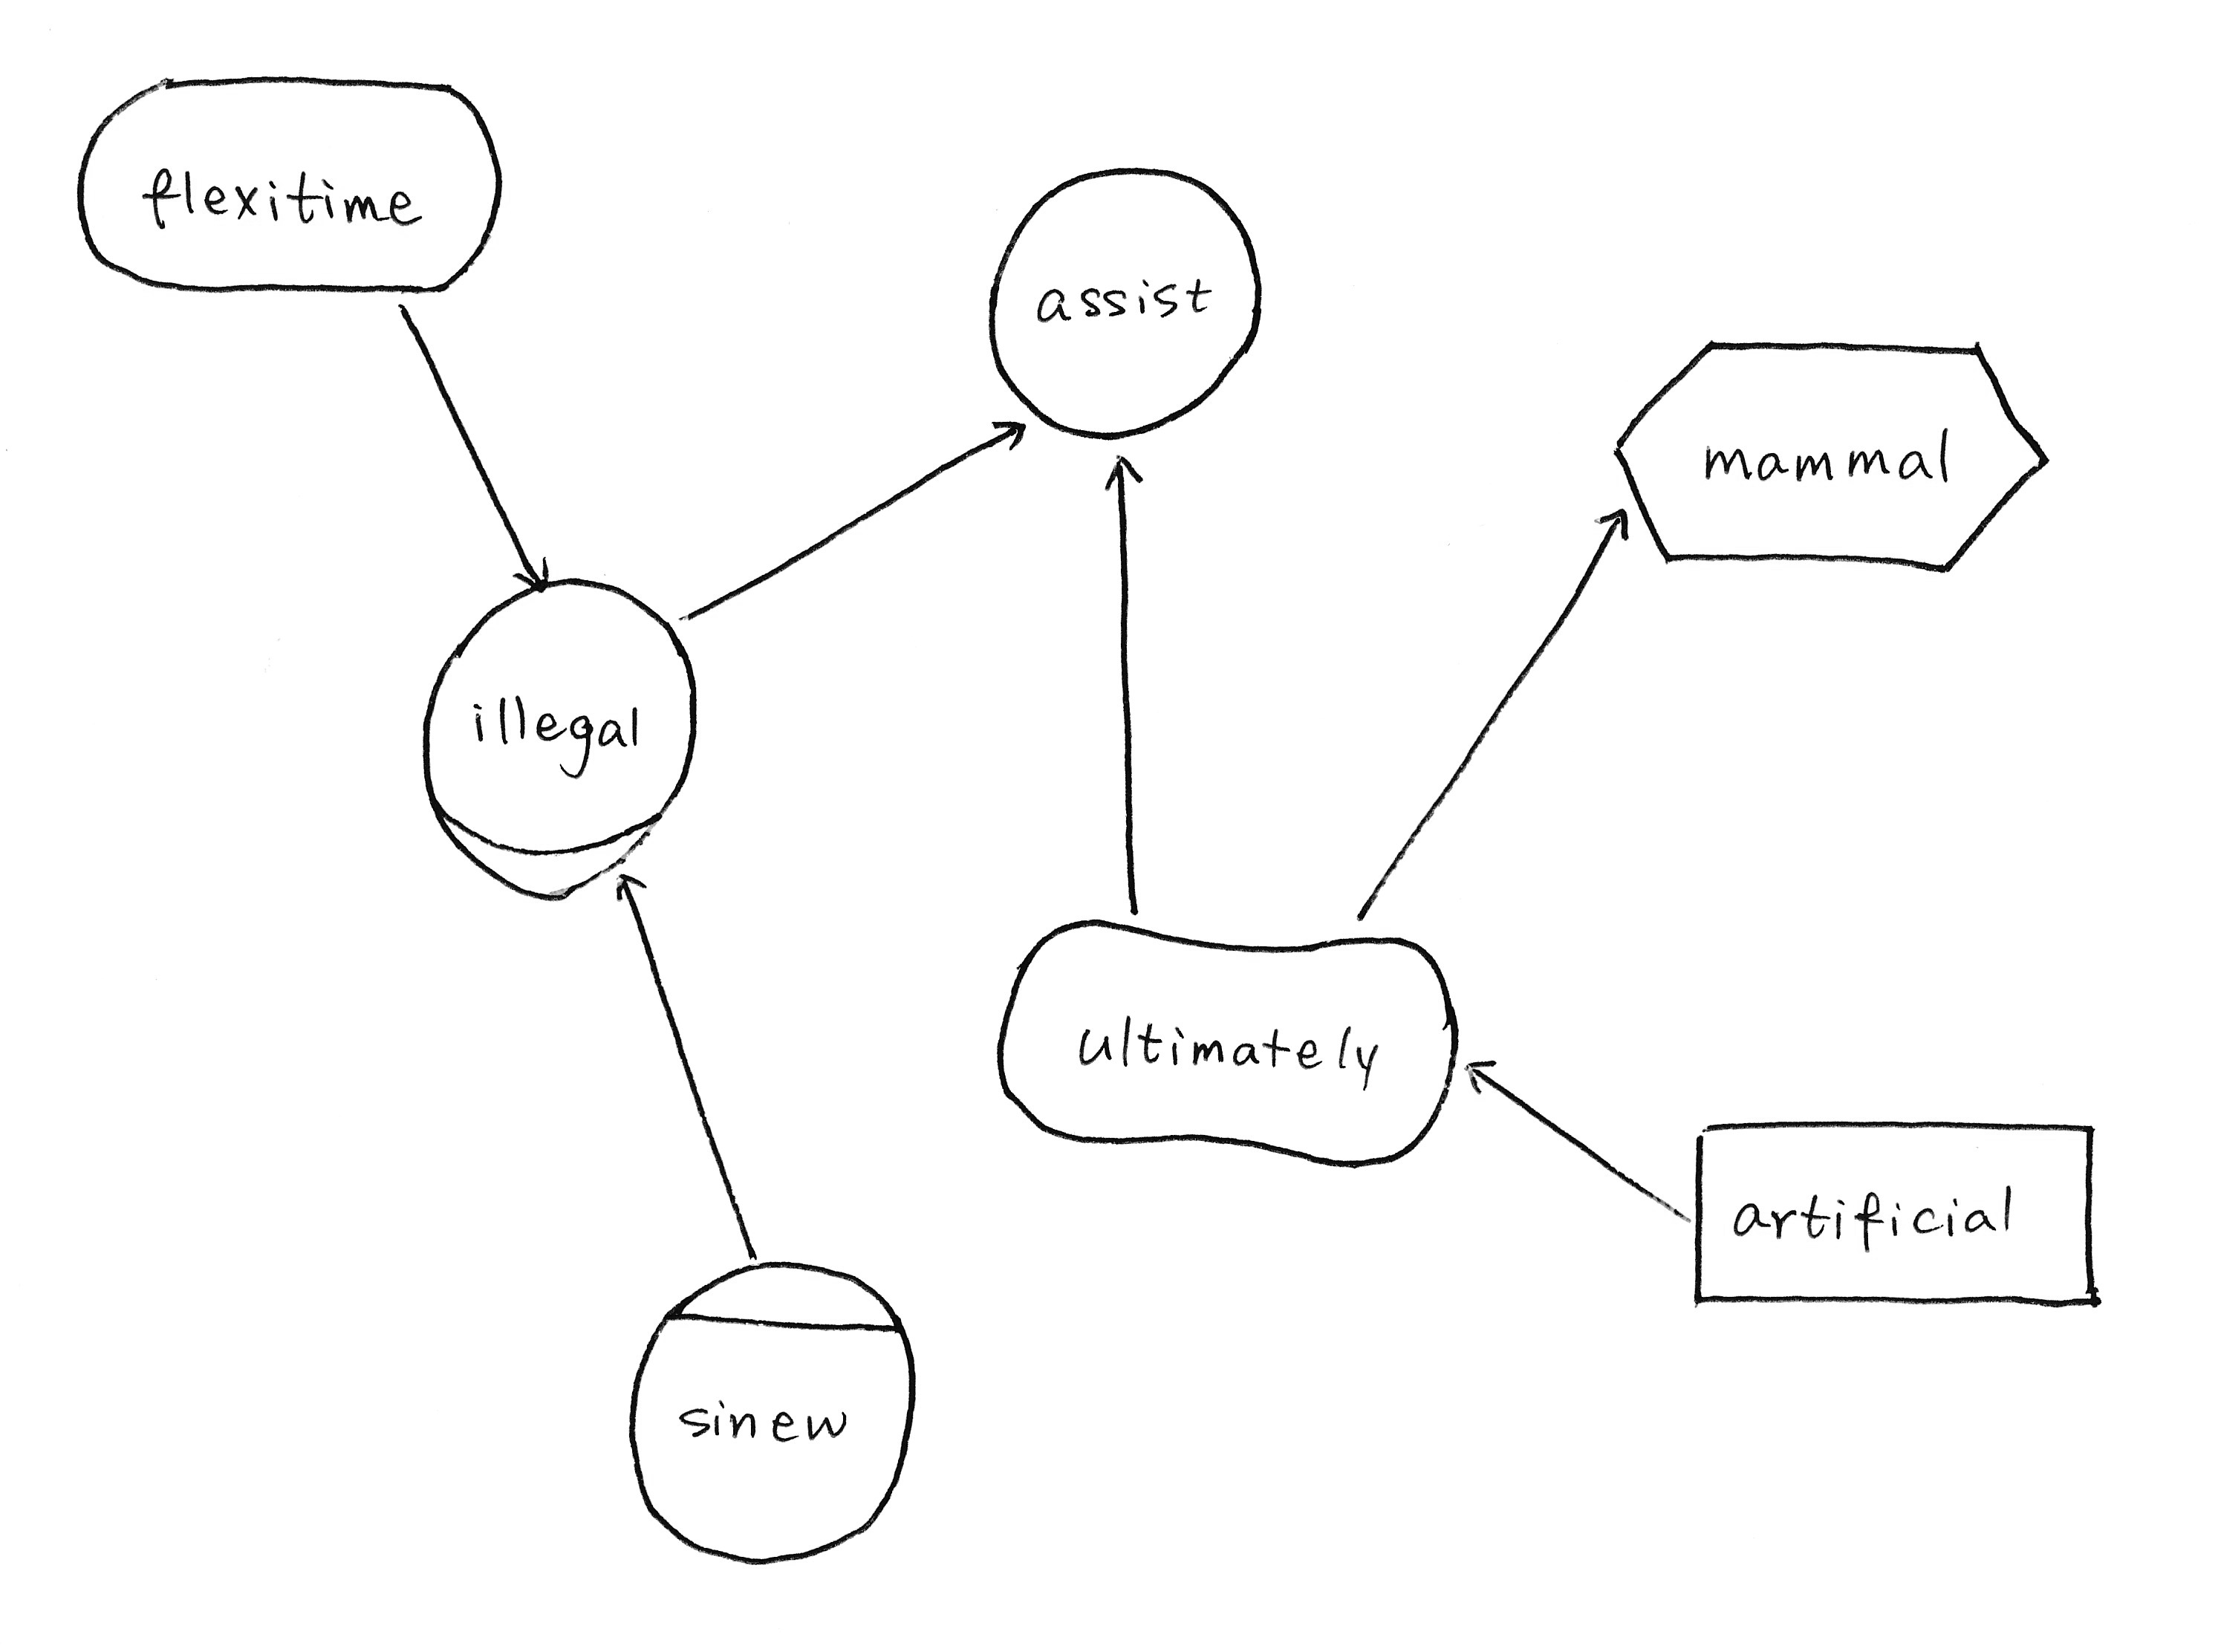actor: (972, 148, 1281, 451)
agent: (614, 1244, 934, 1586)
arrow: (1576, 486, 1654, 566), (583, 852, 661, 928), (500, 536, 576, 602), (1081, 439, 1154, 500), (1451, 1038, 1506, 1109), (970, 410, 1040, 463)
goal: (56, 49, 519, 318)
quality: (975, 899, 1475, 1182)
resource: (1671, 1098, 2126, 1336)
role: (399, 557, 710, 909)
task: (1597, 319, 2058, 592)
